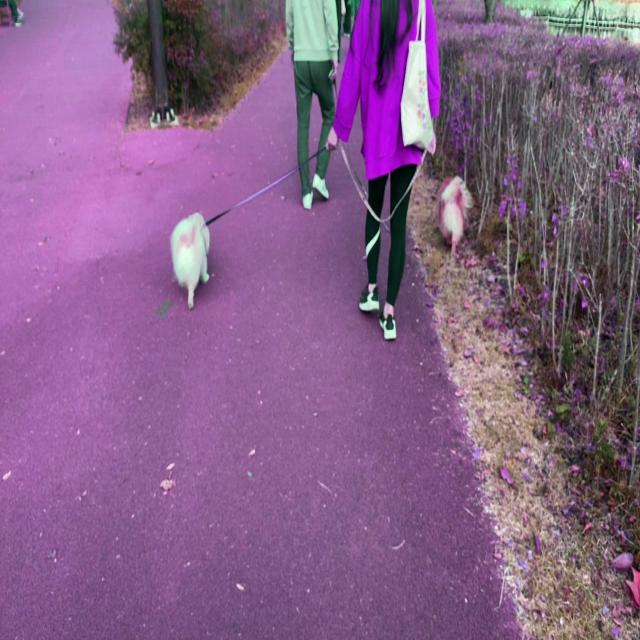Leashed_Dog: (170, 101, 378, 311), (392, 175, 475, 258)
